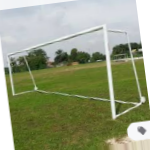goals: (7, 24, 142, 117)
